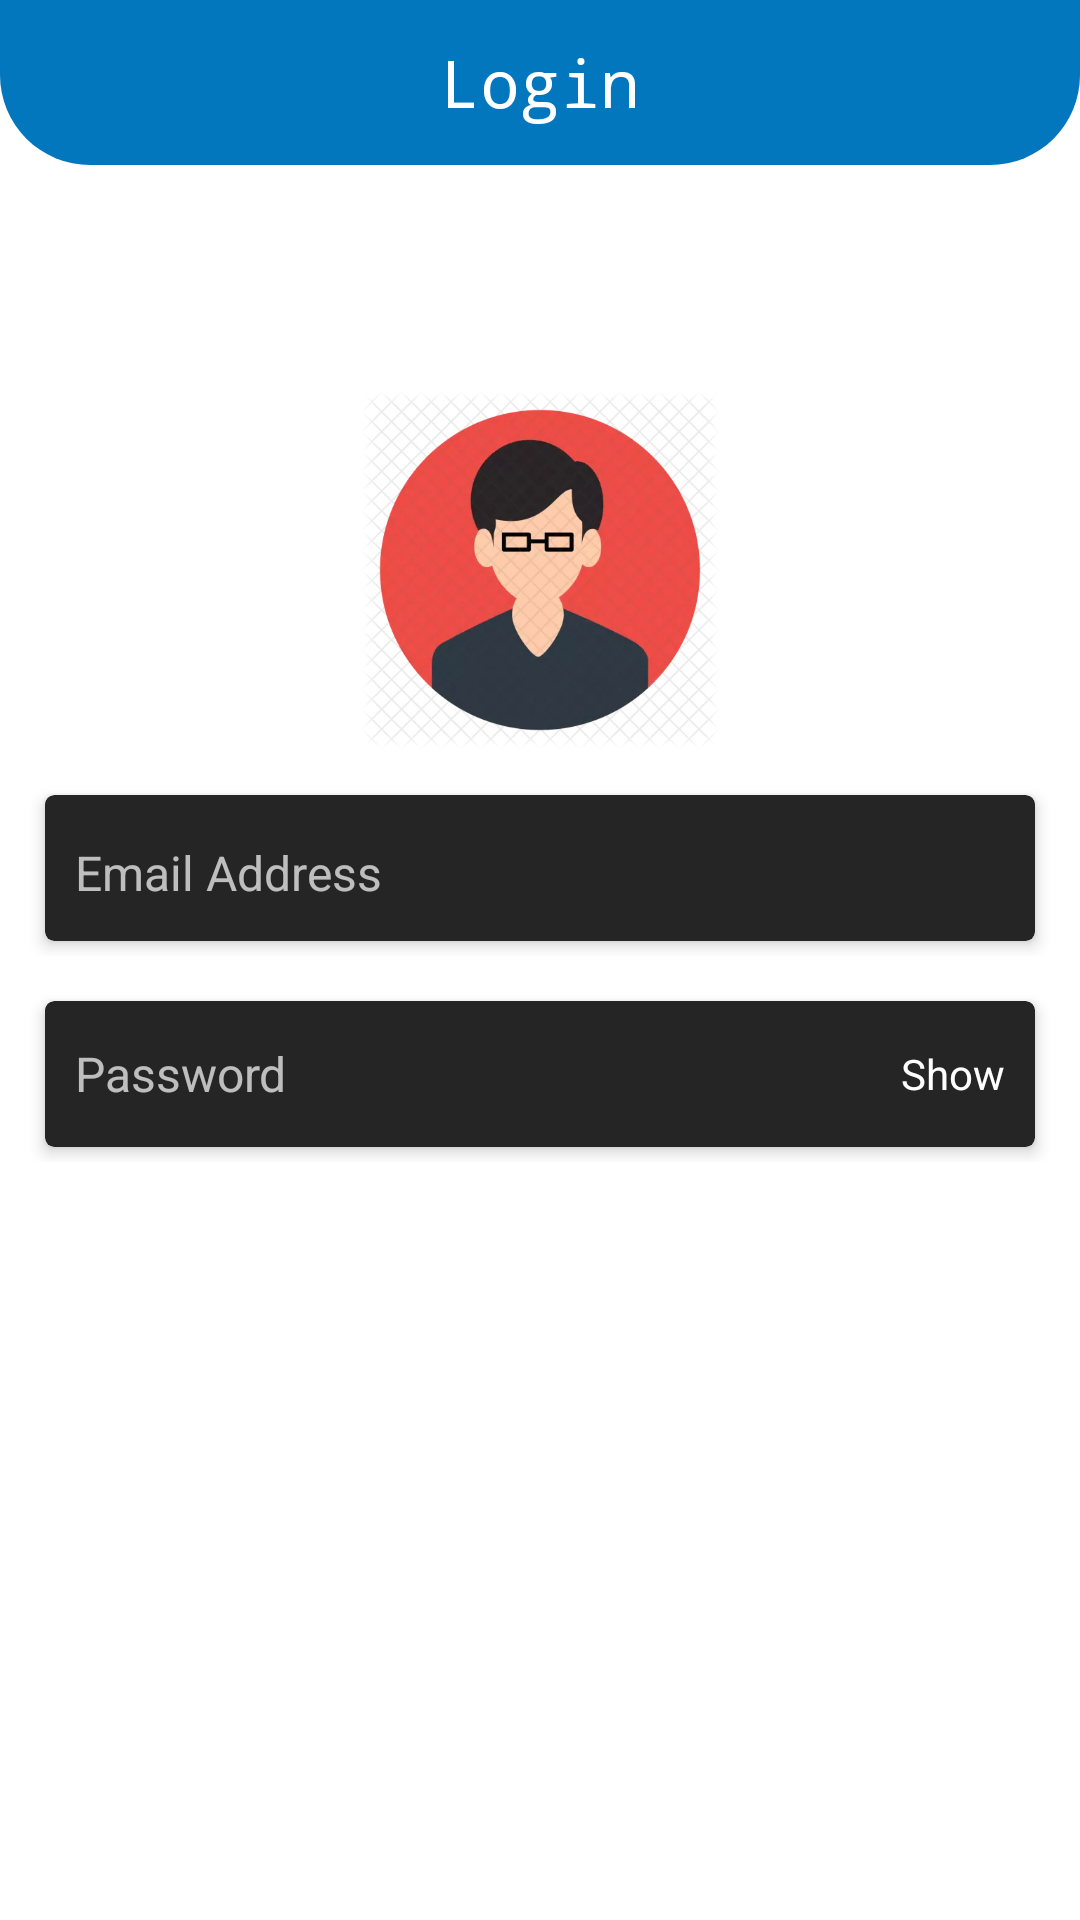

Point at icon controls on the screen. Image size 1080px×1920px, points as point (x, y).
avater profile: point (540, 570)
